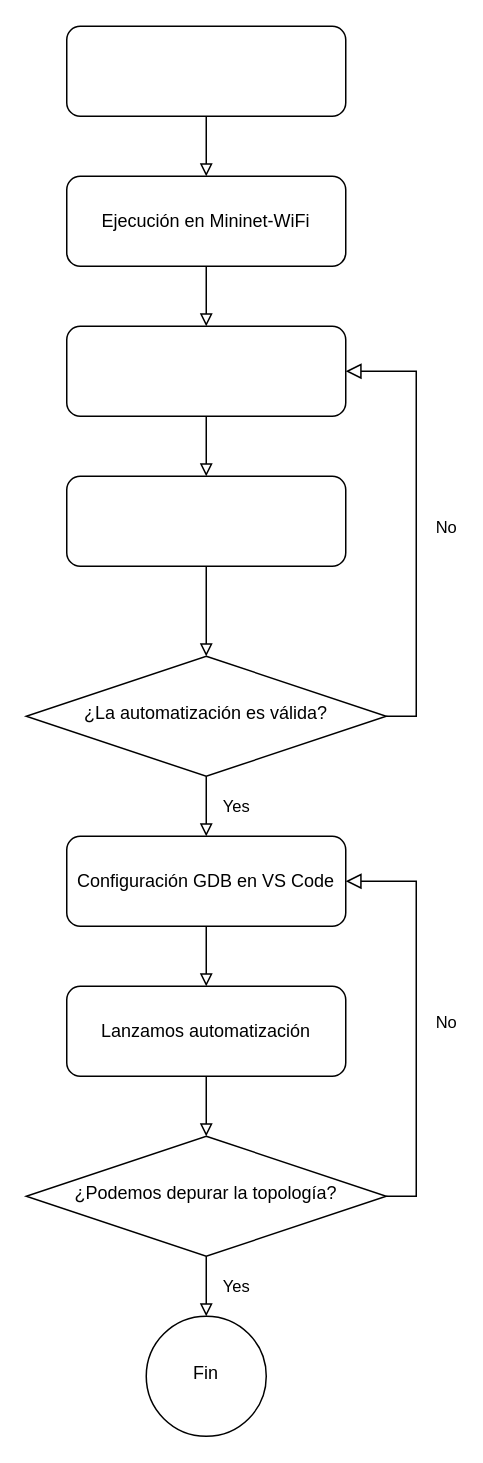
Some shapes in this 483 by 1463 pixel diagram are drawn without their labels. Here are the shapes that lost their labels. From the top down, the centre of each, then its label:
At (205,70): "Topología básica en Mininet-WiFi".
At (205,370): "Análisis de la traza".
At (205,520): "Automatización".
